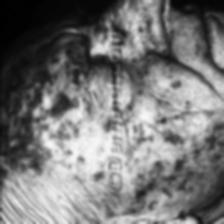Potentially Malignant Skin Tumors: (130, 95, 224, 214), (0, 52, 68, 179), (124, 3, 174, 71), (76, 130, 104, 182), (94, 1, 117, 31)
